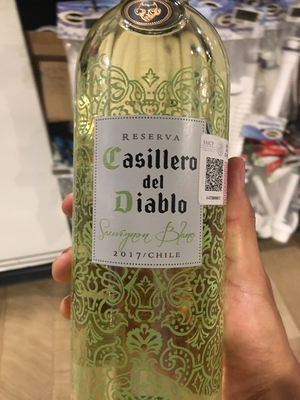casillero del diablo sauvignon blanc: (68, 13, 229, 400)
